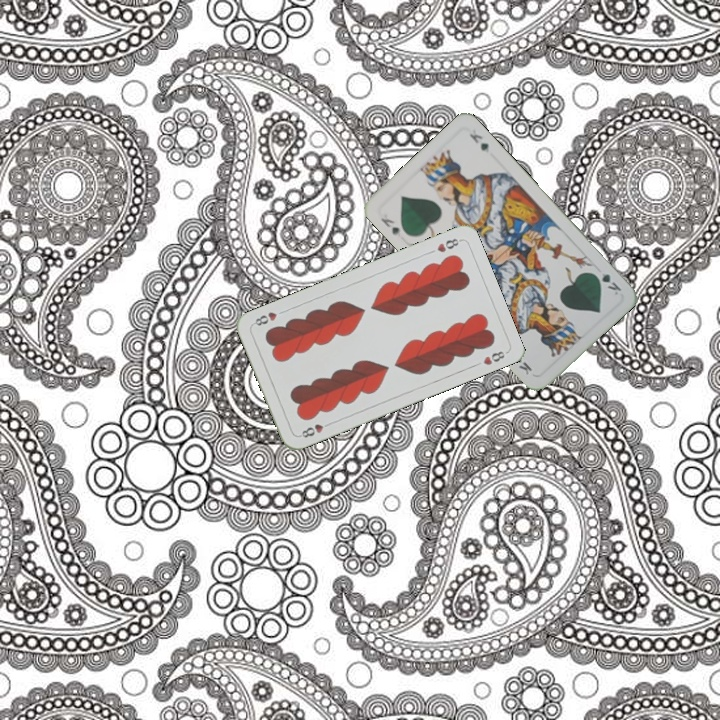GK: (589, 268, 624, 298), (377, 214, 403, 240)
H8: (295, 418, 334, 440), (433, 234, 463, 255)
